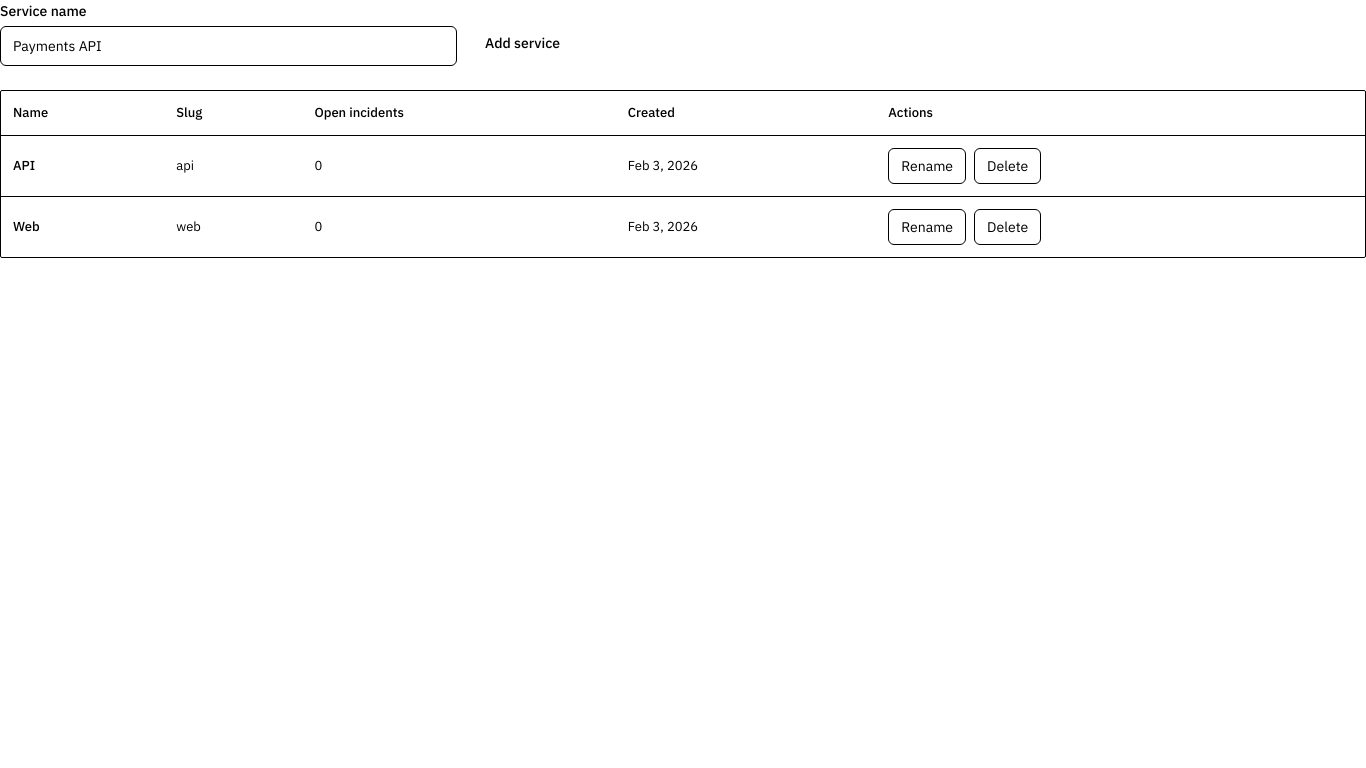
Scenario: renaming › reports a taken name inside the dialog and stays open
Click the 1st button "Rename" at [927, 166], box [888,148,966,184]
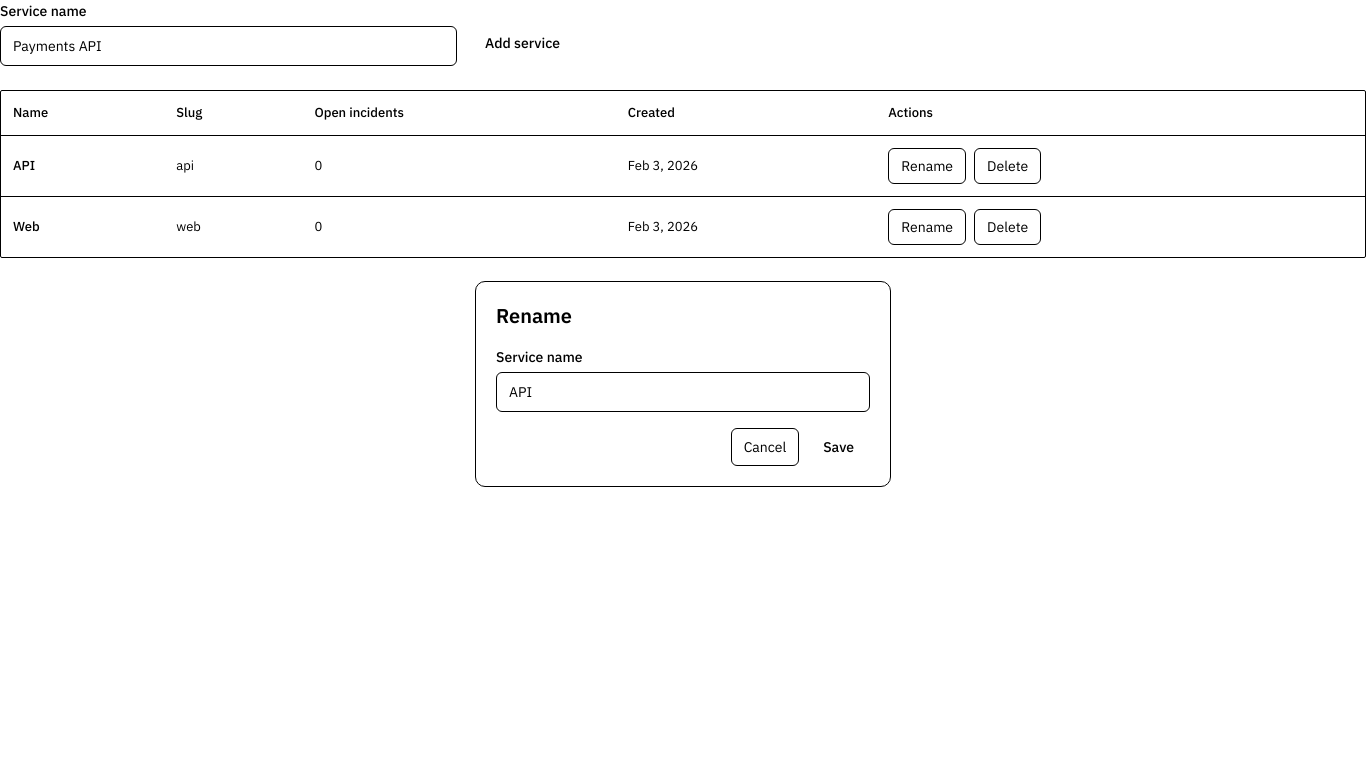
Replace the text in the field labelled "Service name" with "Web" at [683, 392], box [496,372,870,412]
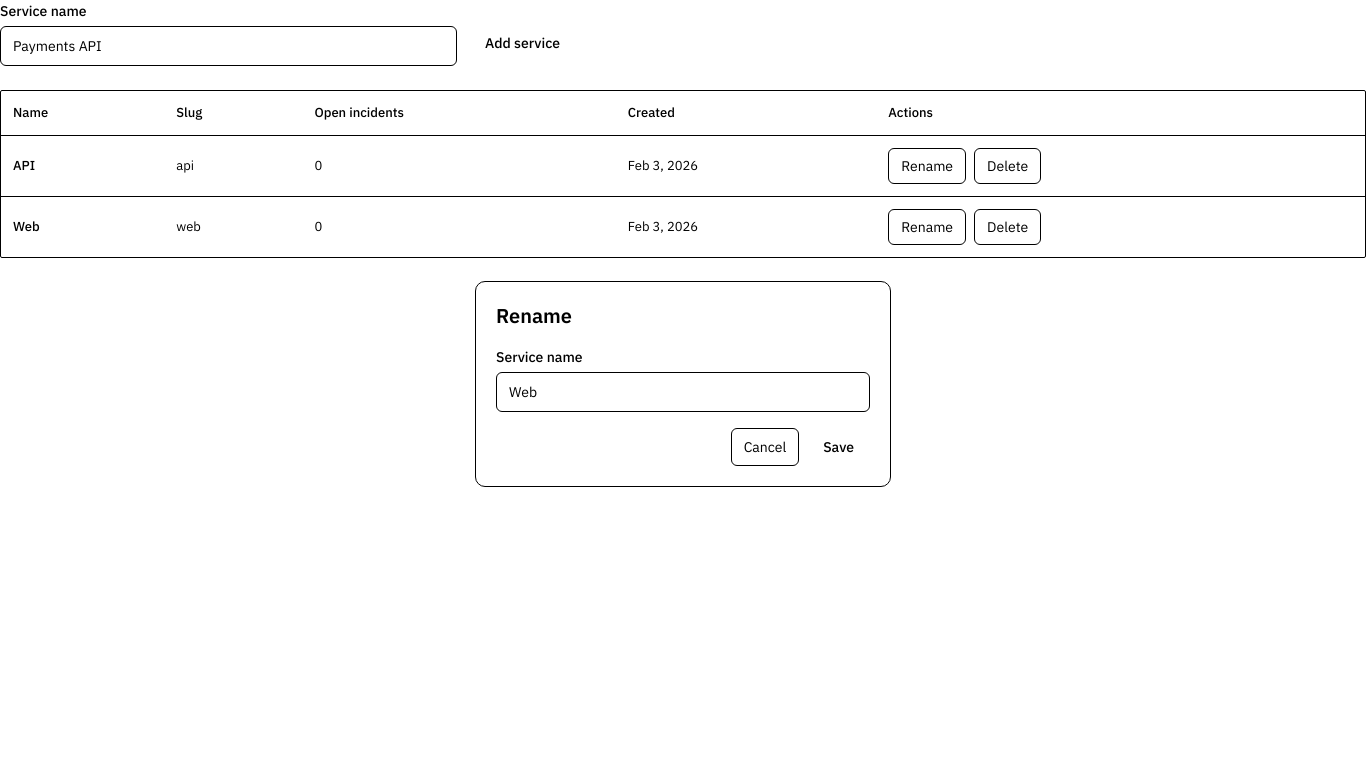
Click the button "Save" at [839, 447], box [807,428,870,466]
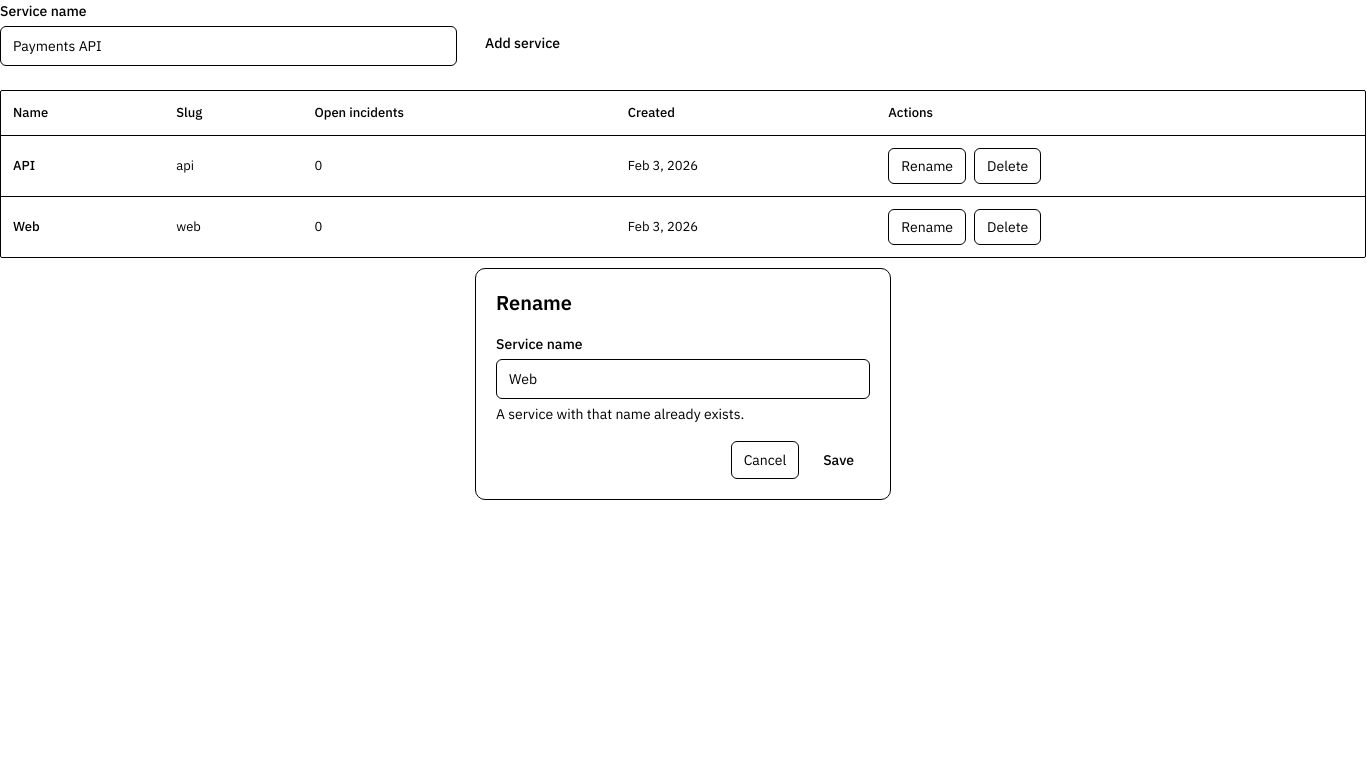
Expected: the dialog is shown, [475,268,891,500]
Expected: the text "A service with that name already exists." is shown, [496,405,744,423]
